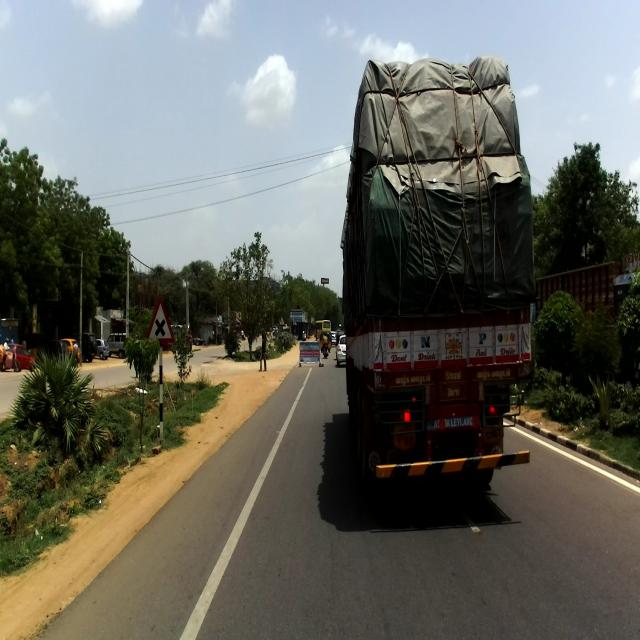truck: (342, 55, 535, 492)
